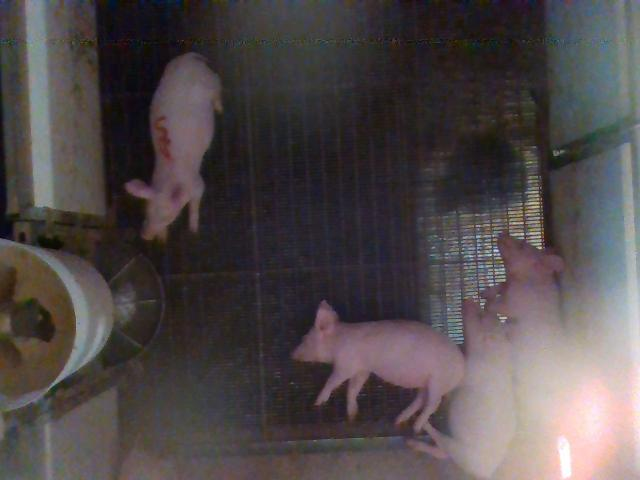pig-3: (125, 52, 222, 240)
